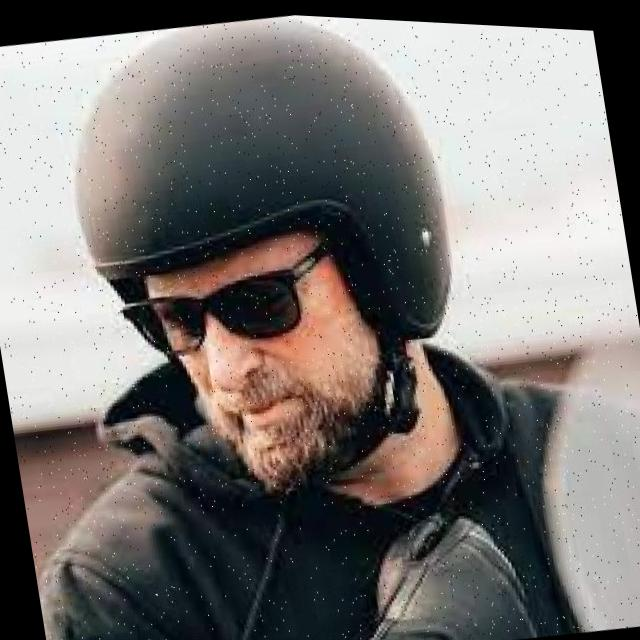helmet: (51, 2, 492, 538)
